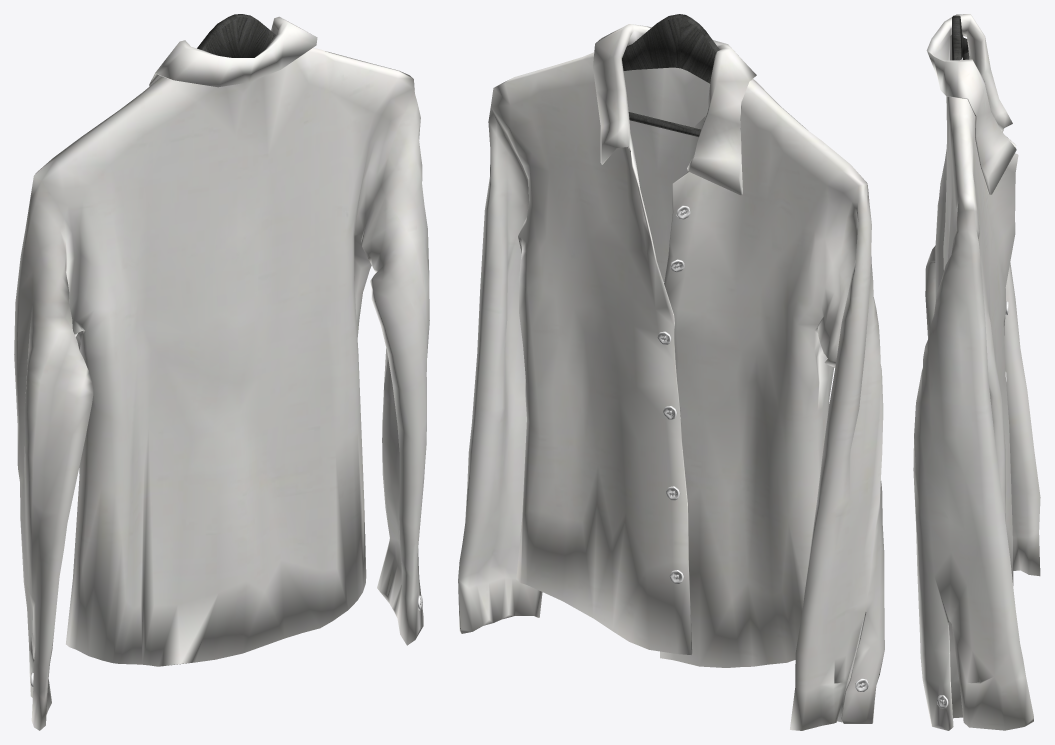
File: hvtop_Clothes_07.glb
3 renders of one model, left to right at view 1: azimuth 30°, elevation 25°; view 2: azimuth 150°, elevation 25°; view 3: azimuth 270°, elevation 25°, orthographic. The views are drawn at different scales.
Visible parts, largest first — view 1: BP_Clothes_07; view 2: BP_Clothes_07; view 3: BP_Clothes_07.
Part boxes in pixels (x1,y1,x2,y2): BP_Clothes_07: (14,14,429,730); BP_Clothes_07: (458,14,884,730); BP_Clothes_07: (913,14,1040,730).
Bounding box in the file's own units: 0.4857 × 0.7757 × 0.139.
Materials: 3 (2 with a texture image).
